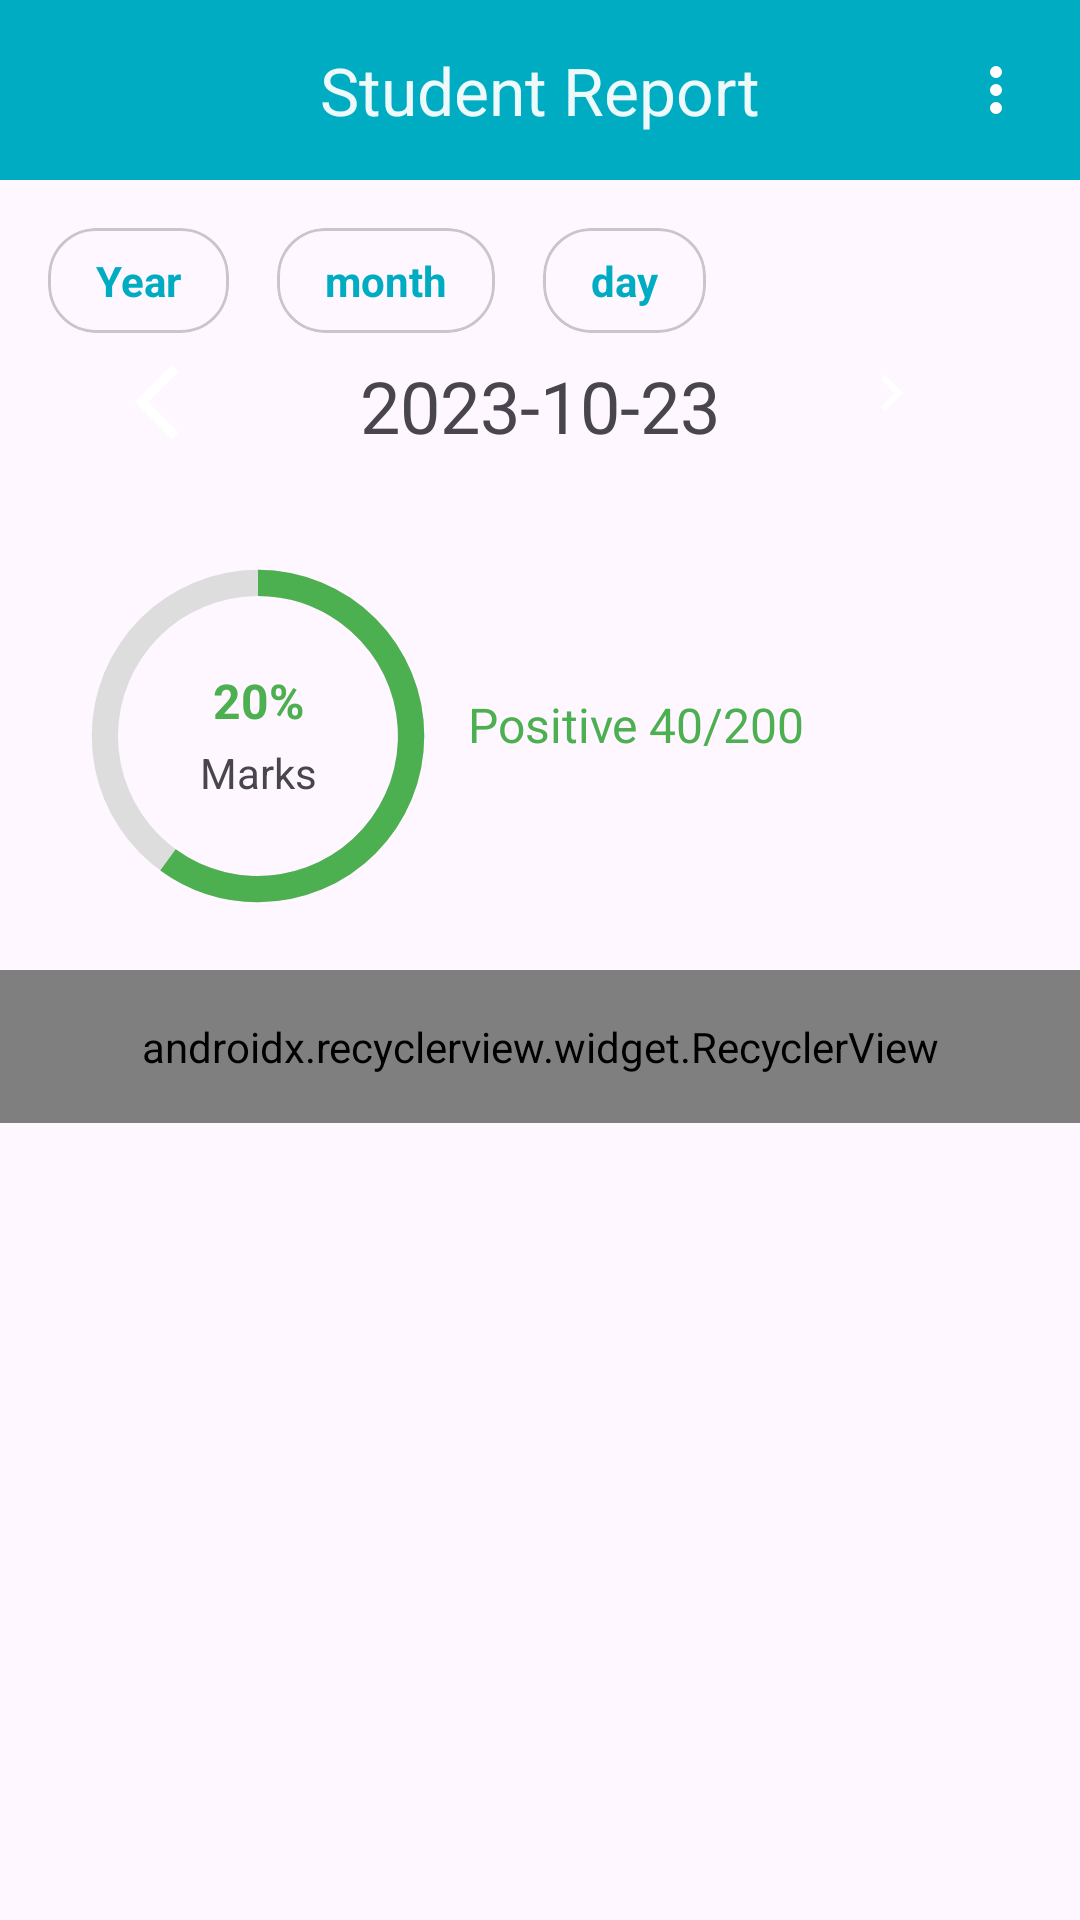

Icons on this 1080×1920 Android screen, each with the point to tap as [x,y]:
more vert: [996,90]
